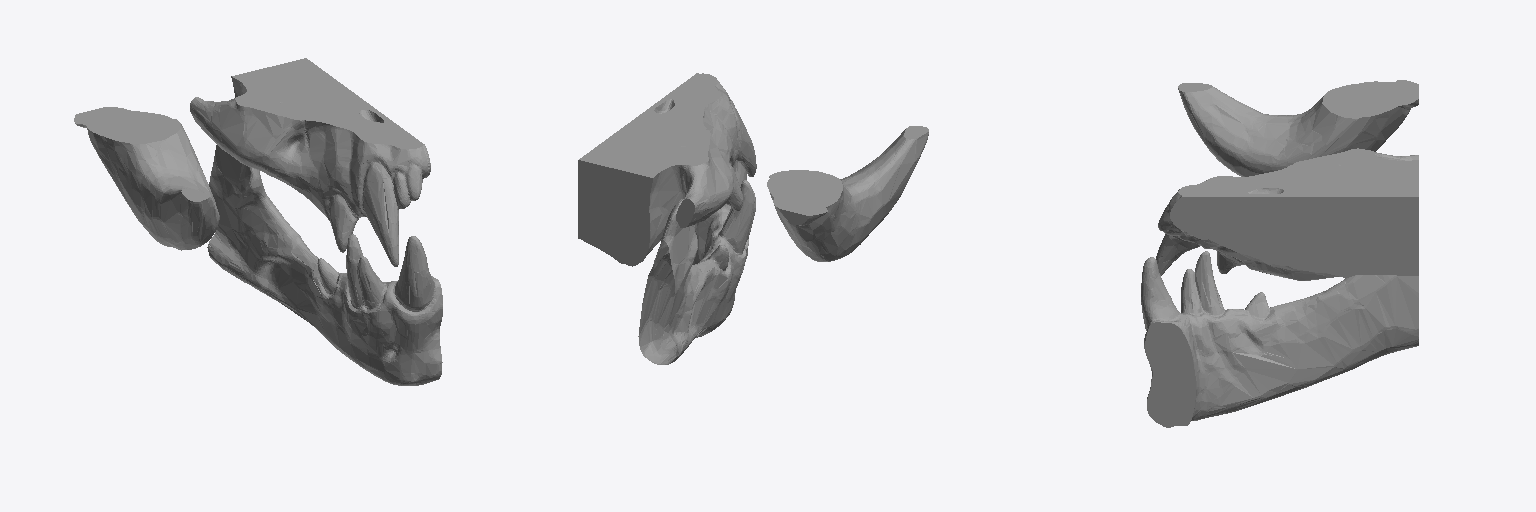
File: Skull_8.obj
3 views of the same model, side by side, from view 1: azimuth 30°, elevation 25°; view 2: azimuth 150°, elevation 25°; view 3: azimuth 270°, elevation 25° (orthographic).
Parts seen in each view (by area): view 1: DeathClawSKULL.005; view 2: DeathClawSKULL.005; view 3: DeathClawSKULL.005.
Part boxes in pixels (x1,y1,x2,y2): DeathClawSKULL.005: (74, 58, 442, 385); DeathClawSKULL.005: (578, 73, 928, 364); DeathClawSKULL.005: (1141, 80, 1418, 427).
Size of the model in its own units: 1.22 by 1.14 by 1.22.